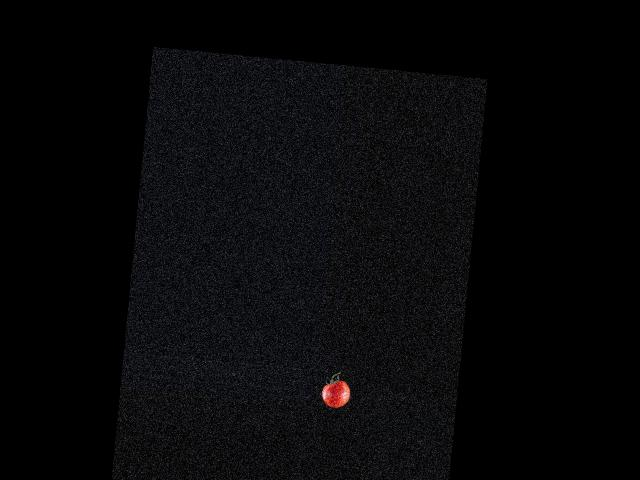tomato: (321, 378, 351, 409)
